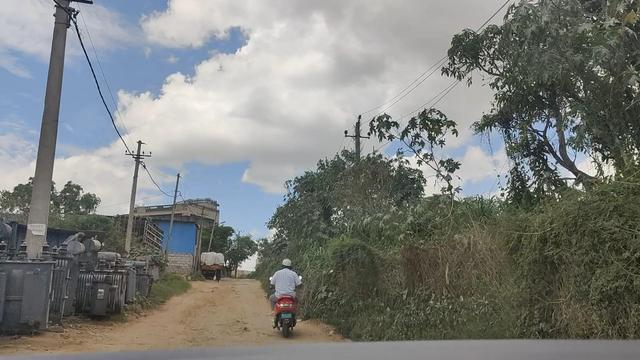HMV: (196, 250, 230, 290)
LMV: (266, 257, 308, 339)
UnsurfacedRoad: (162, 296, 255, 342)
